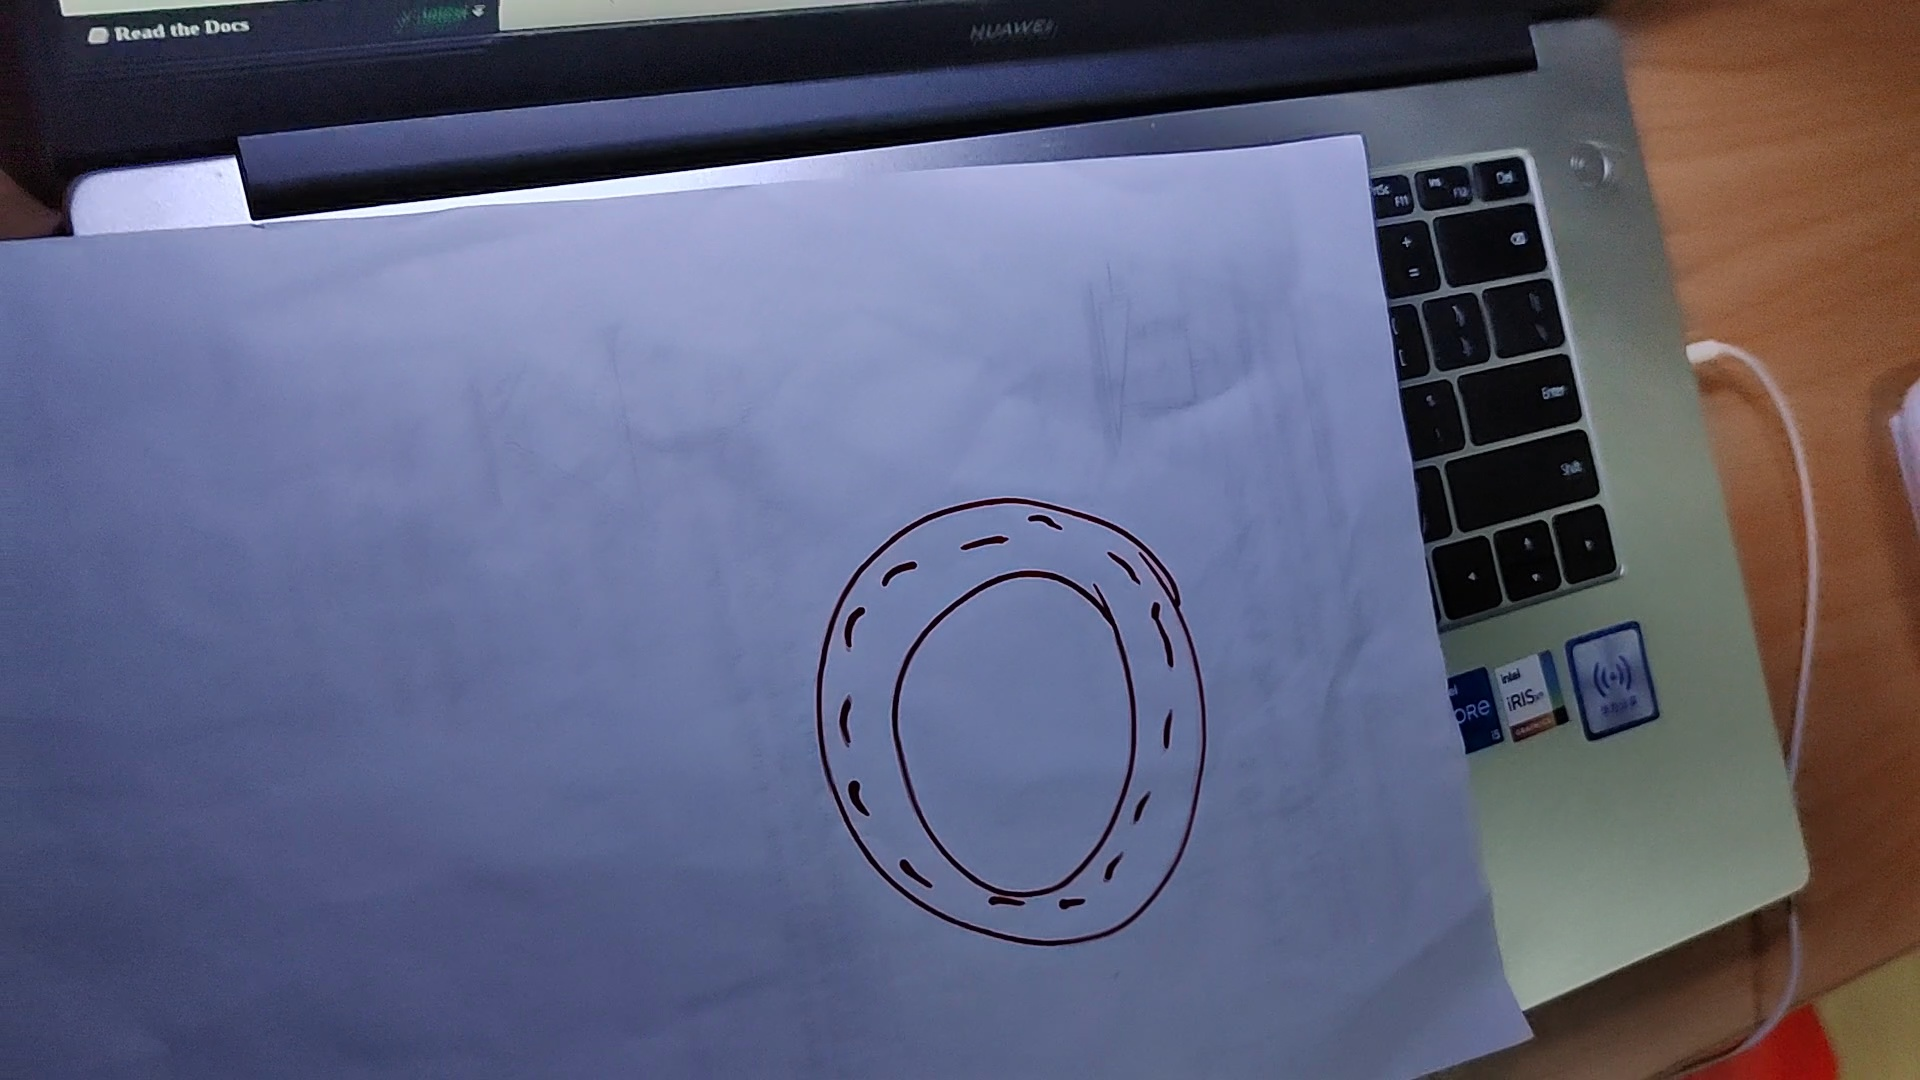circle: (816, 498, 1207, 945)
